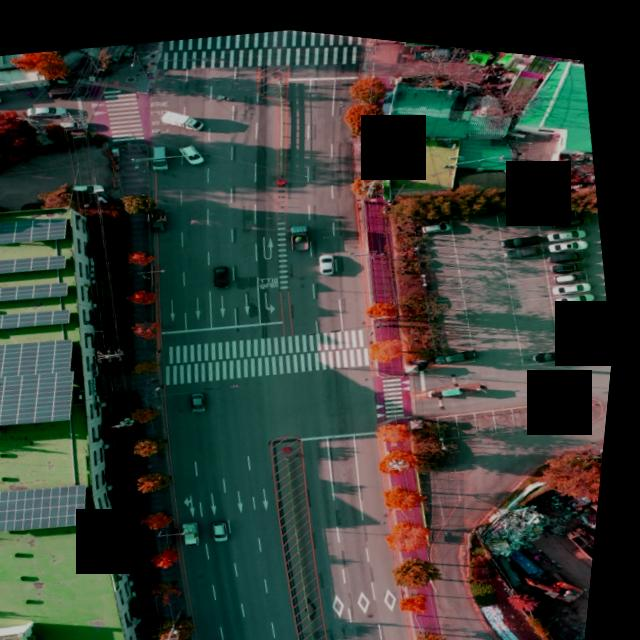car: (48, 83, 91, 103), (29, 100, 72, 120), (441, 338, 483, 358), (505, 219, 546, 238), (539, 334, 580, 353), (148, 141, 174, 170), (182, 136, 211, 161), (506, 232, 544, 251), (560, 288, 598, 306), (551, 212, 589, 230), (552, 225, 590, 243), (73, 177, 109, 196), (560, 278, 596, 295), (553, 235, 589, 252), (554, 247, 589, 264), (558, 268, 594, 284), (555, 258, 590, 274), (215, 260, 237, 285), (561, 200, 593, 217), (319, 246, 341, 270), (63, 115, 92, 131), (424, 211, 454, 226), (222, 514, 241, 537), (196, 385, 215, 408), (223, 634, 245, 640), (0, 159, 5, 180), (0, 93, 3, 109)
medium_truck: (567, 504, 606, 561)
small_truck: (160, 98, 208, 132), (152, 202, 176, 231), (293, 217, 317, 246), (190, 515, 214, 544)
